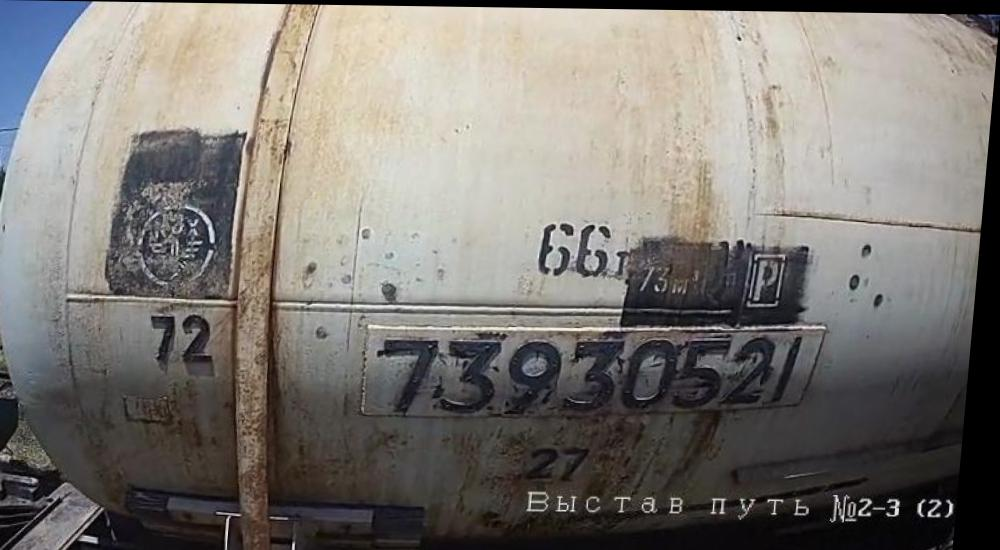Wagon-number: (377, 326, 812, 418)
